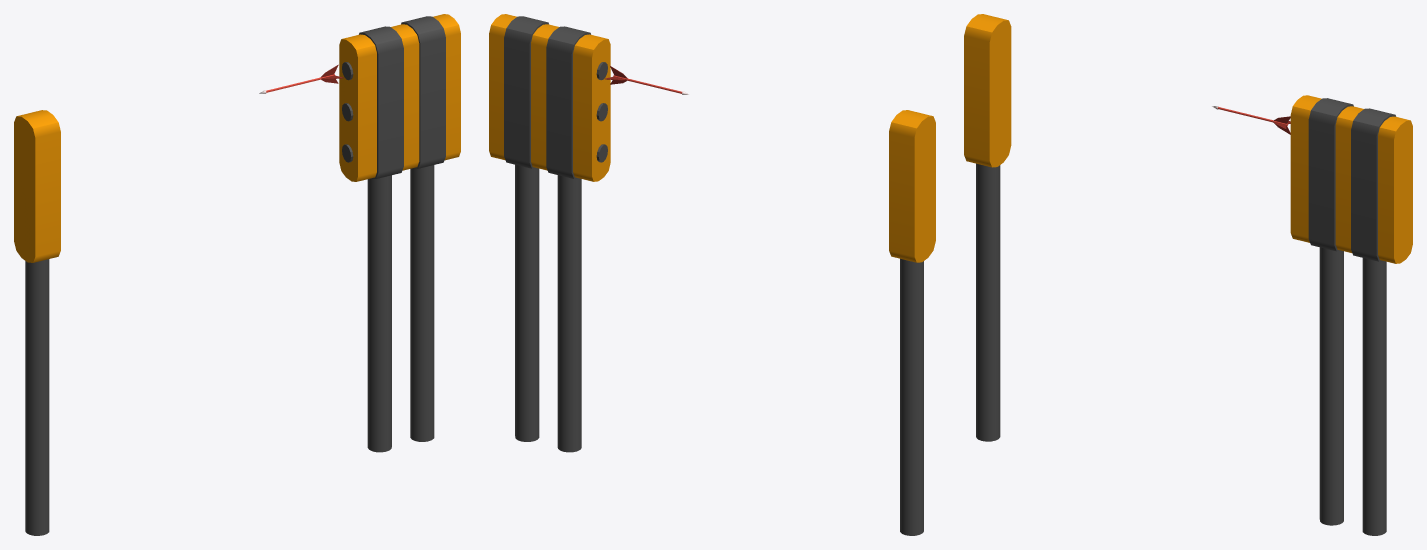
The model's file is trap_18.fbx.
3 views of the same model, side by side, from view 1: azimuth 30°, elevation 25°; view 2: azimuth 150°, elevation 25°; view 3: azimuth 330°, elevation 25° (orthographic).
Visible parts, largest first — view 1: trap_018; view 2: trap_018; view 3: trap_018.
Boxes of the visible parts, bbox=[...] form: trap_018: bbox=[14, 14, 460, 535]; trap_018: bbox=[489, 14, 935, 535]; trap_018: bbox=[964, 14, 1412, 535].
Size of the model in its own units: 2209 by 2053 by 191.
1 material, 1 textured.
